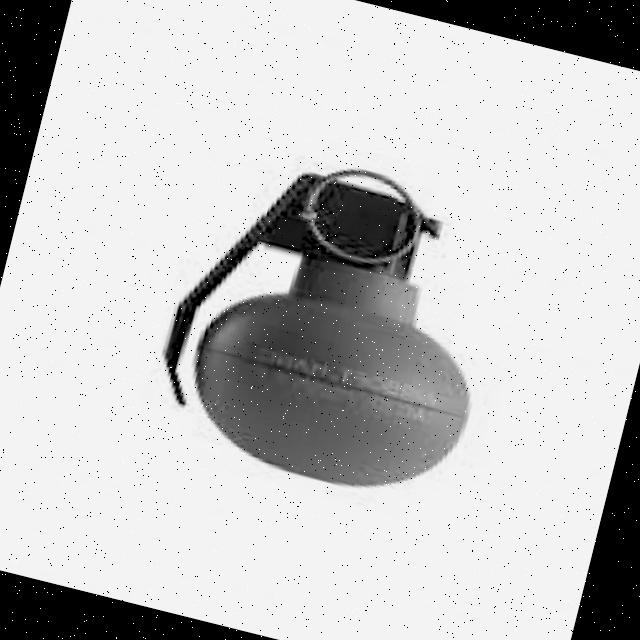grenade: (130, 138, 517, 529)
